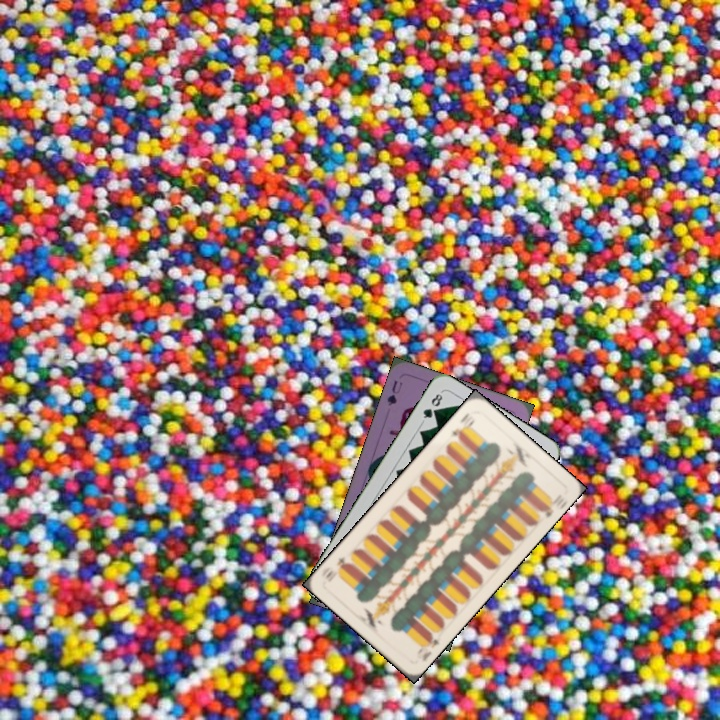E10: (448, 408, 478, 443), (412, 629, 442, 664)
G8: (418, 388, 445, 425)
GU: (383, 376, 405, 408)
